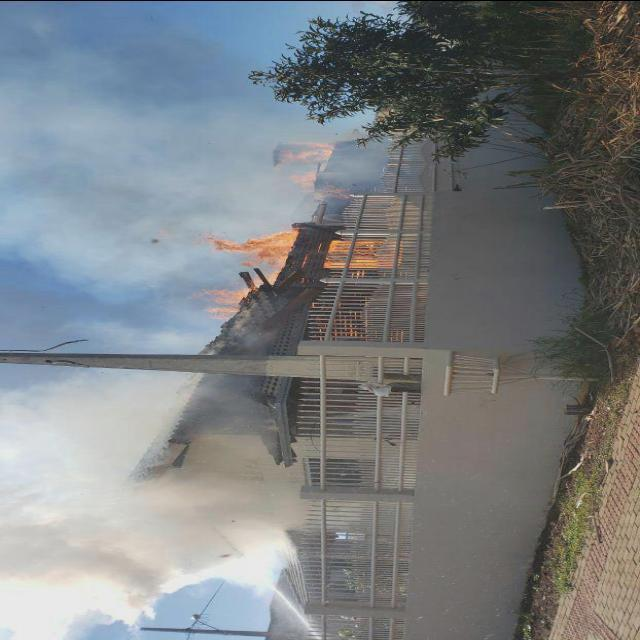Fire: (206, 230, 380, 320), (264, 139, 338, 191)
